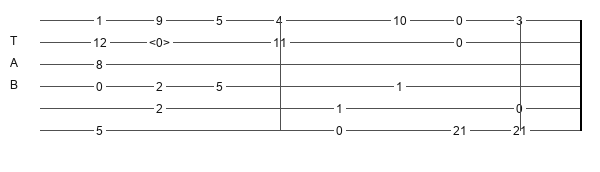0: (96, 80, 107, 93), (336, 124, 347, 137), (456, 14, 467, 27), (456, 36, 467, 49), (516, 102, 527, 115)
1: (96, 14, 107, 27), (336, 102, 347, 115), (396, 80, 407, 93)
10: (393, 14, 411, 27)
11: (273, 36, 291, 49)
12: (93, 36, 111, 49)
2: (156, 102, 167, 115), (156, 80, 167, 93)
21: (453, 124, 471, 137), (513, 124, 531, 137)
3: (516, 14, 527, 27)
4: (276, 14, 287, 27)
5: (96, 124, 107, 137), (216, 80, 227, 93), (216, 14, 227, 27)
8: (96, 58, 107, 71)
9: (156, 14, 167, 27)
harmonic: (149, 36, 174, 49)
